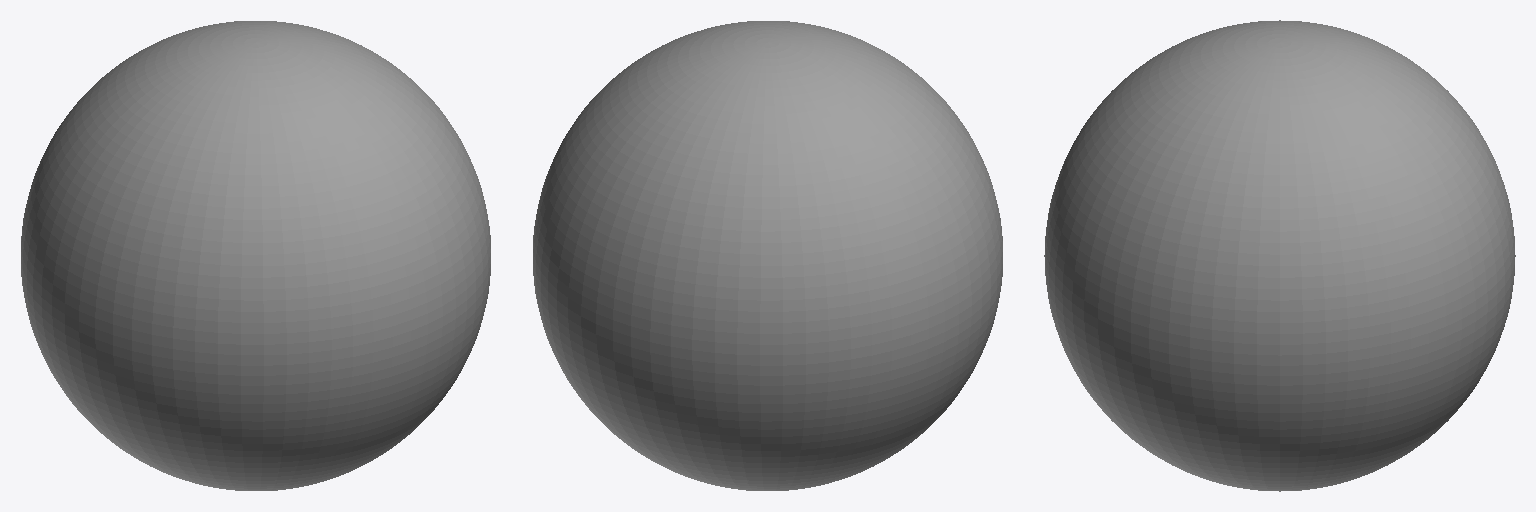
Rendered from msphere.obj.
3 renders of one model, left to right at view 1: azimuth 30°, elevation 25°; view 2: azimuth 150°, elevation 25°; view 3: azimuth 270°, elevation 25°, orthographic.
Visible parts, largest first — view 1: Plane; view 2: Plane; view 3: Plane.
Boxes of the visible parts, x1=… form: Plane: x1=21, y1=21, x2=490, y2=490; Plane: x1=533, y1=21, x2=1002, y2=490; Plane: x1=1044, y1=20, x2=1515, y2=491.
Bounding box in the file's own units: 4.29 × 4.29 × 4.29.